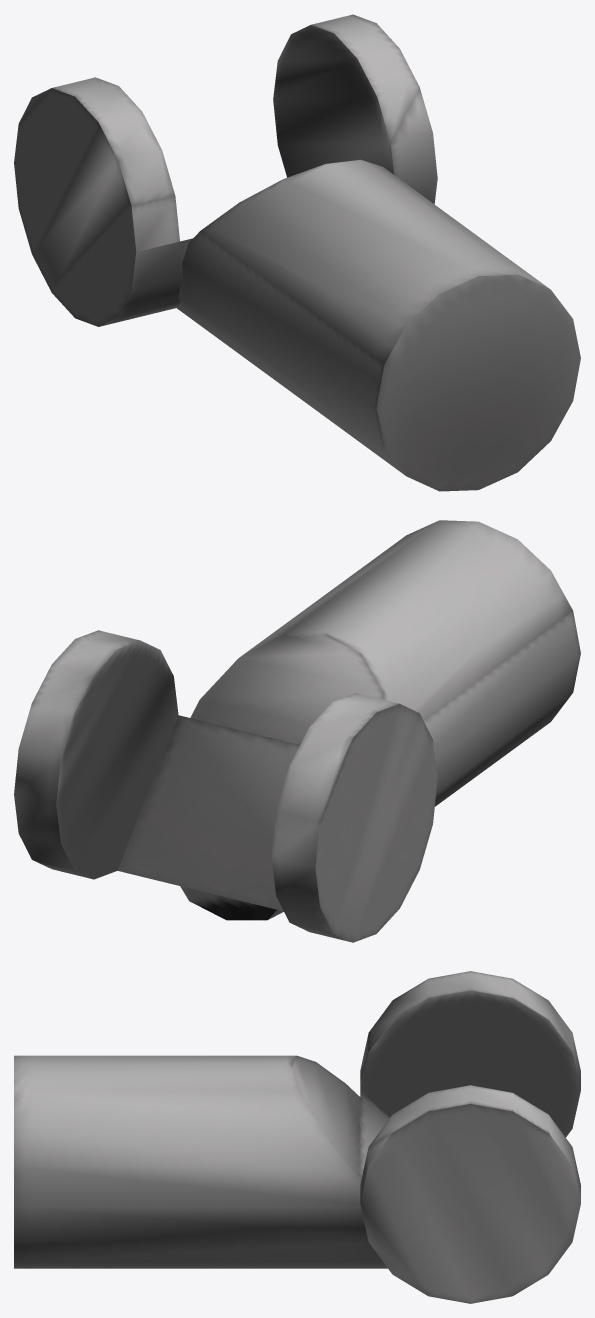
The model's file is r_larm.dae.
The picture shows the model from 3 angles, top to bottom: view 1: azimuth 30°, elevation 25°; view 2: azimuth 150°, elevation 25°; view 3: azimuth 270°, elevation 25°; orthographic projection. The views are drawn at different scales.
Parts seen in each view (by area): view 1: p24253; view 2: p24253; view 3: p24253.
Boxes of the visible parts, bbox=[...] form: p24253: bbox=[14, 14, 580, 491]; p24253: bbox=[14, 520, 580, 942]; p24253: bbox=[14, 971, 580, 1303].
Size of the model in its own units: 0.1303 by 0.2351 by 0.1012.
